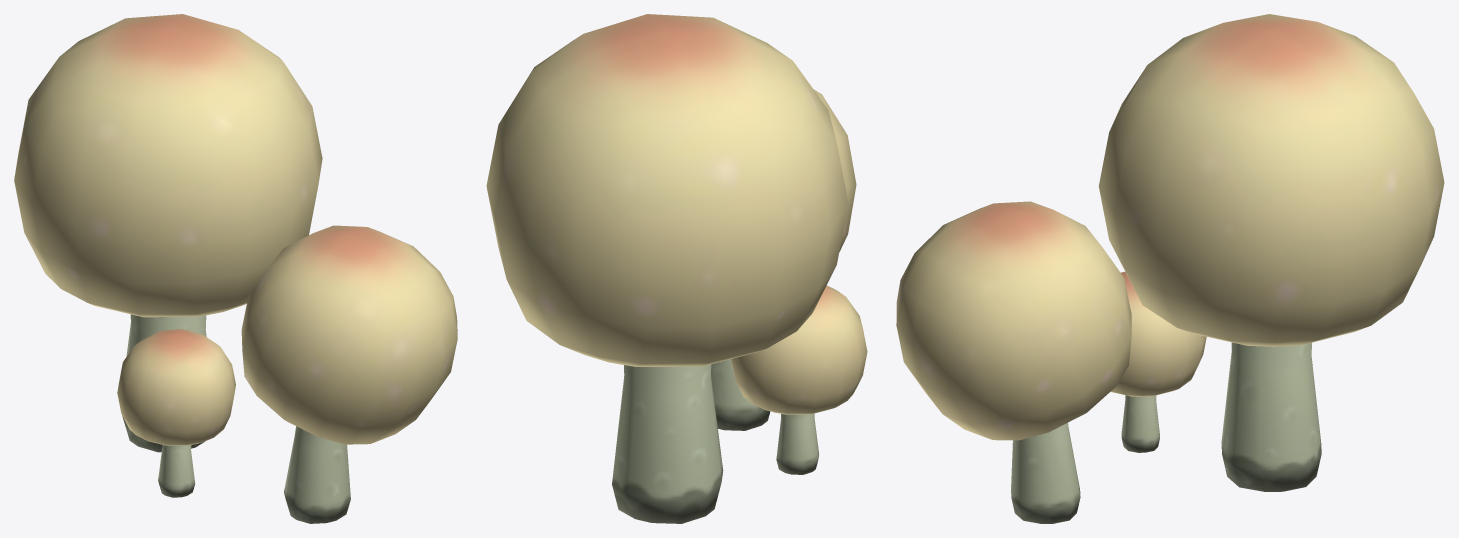
The model's file is Mushroom2.fbx.
The picture shows the model from 3 angles, left to right: view 1: azimuth 30°, elevation 25°; view 2: azimuth 150°, elevation 25°; view 3: azimuth 270°, elevation 25°; orthographic projection. The views are drawn at different scales.
Parts seen in each view (by area): view 1: mushroom.001; view 2: mushroom.001; view 3: mushroom.001.
Boxes of the visible parts, x1,y1,x2,y2 form: mushroom.001: (14, 14, 457, 523); mushroom.001: (486, 14, 867, 523); mushroom.001: (896, 14, 1444, 523).
Bounding box in the file's own units: 5.27 × 7.17 × 7.83.
Materials: 1 (1 with a texture image).
